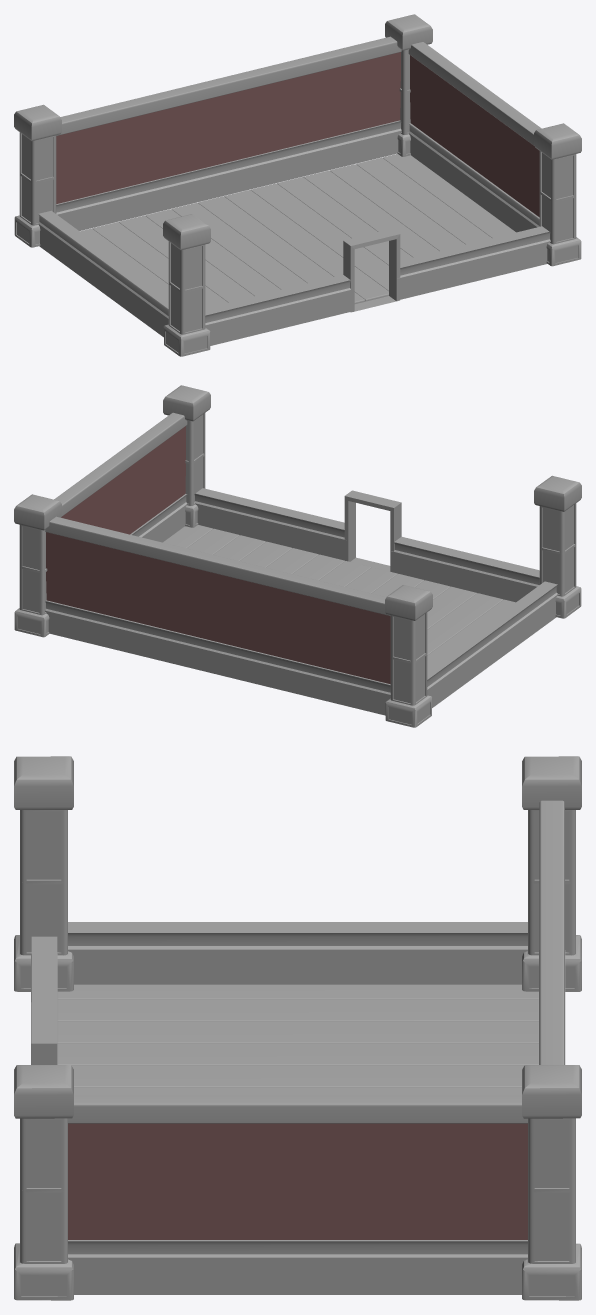
Rendered from room3-5.fbx.
The picture shows the model from 3 angles, top to bottom: view 1: azimuth 30°, elevation 25°; view 2: azimuth 150°, elevation 25°; view 3: azimuth 270°, elevation 25°; orthographic projection. The views are drawn at different scales.
Parts seen in each view (by area): view 1: Wall88, Wall87, Wall82, Wall83, Wall86, Pillar10, Pillar9, Pillar12, Floor69, Floor70, Floor68, Floor74 (+11 smaller); view 2: Wall88, Wall87, Wall82, Wall86, Pillar12, Wall83, Pillar10, Pillar11, Pillar9, Door_Frame28, Floor64, Floor63 (+10 smaller); view 3: Wall87, Wall86, Pillar11, Pillar9, Pillar10, Floor63, Floor64, Floor65, Floor66, Pillar12, Floor62, Wall88 (+3 smaller).
Boxes of the visible parts, bbox=[...] form: Wall88: bbox=[56, 36, 401, 230]; Wall87: bbox=[408, 42, 541, 232]; Wall82: bbox=[397, 226, 550, 300]; Wall83: bbox=[205, 275, 352, 345]; Wall86: bbox=[38, 210, 168, 337]; Pillar10: bbox=[163, 214, 210, 356]; Pillar9: bbox=[534, 123, 581, 266]; Pillar12: bbox=[14, 104, 61, 247]; Floor69: bbox=[224, 190, 388, 301]; Floor70: bbox=[251, 183, 388, 290]; Floor68: bbox=[198, 196, 365, 303]; Floor74: bbox=[356, 157, 491, 244]; Wall88: bbox=[45, 516, 390, 715]; Wall87: bbox=[54, 412, 187, 542]; Wall82: bbox=[194, 488, 347, 560]; Wall86: bbox=[427, 581, 557, 707]; Pillar12: bbox=[385, 585, 432, 727]; Wall83: bbox=[391, 536, 539, 602]; Pillar10: bbox=[534, 475, 581, 618]; Pillar11: bbox=[14, 494, 61, 637]; Pillar9: bbox=[163, 385, 210, 527]; Door_Frame28: bbox=[344, 490, 401, 571]; Floor64: bbox=[427, 593, 503, 654]; Floor63: bbox=[427, 599, 515, 666]; Wall87: bbox=[68, 1094, 527, 1294]; Wall86: bbox=[68, 922, 527, 984]; Pillar11: bbox=[522, 1065, 581, 1300]; Pillar9: bbox=[14, 1065, 73, 1300]; Pillar10: bbox=[14, 756, 73, 991]; Floor63: bbox=[57, 999, 538, 1021]; Floor64: bbox=[57, 1021, 538, 1043]; Floor65: bbox=[57, 1043, 538, 1065]; Floor66: bbox=[71, 1065, 524, 1087]; Pillar12: bbox=[522, 756, 581, 991]; Floor62: bbox=[57, 984, 538, 999]; Wall88: bbox=[539, 800, 565, 1064].
Size of the model in its own units: 10.55 by 3.24 by 7.59.
